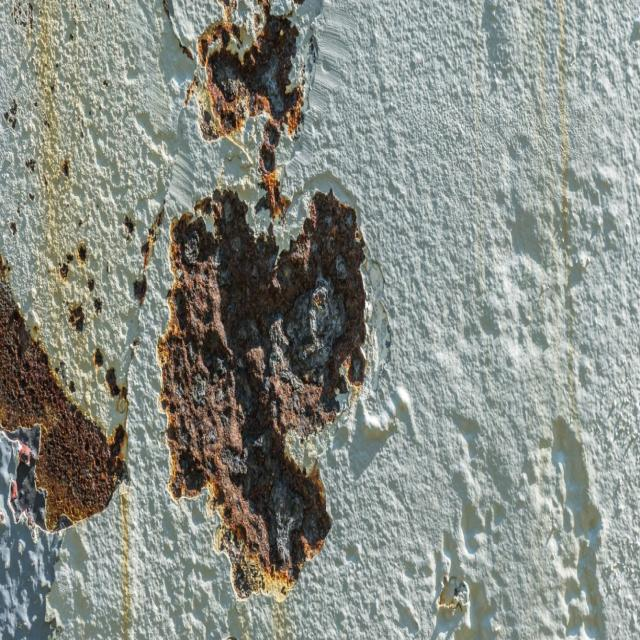Pitting Corrosion: (158, 190, 366, 596), (0, 279, 126, 528), (186, 0, 306, 215), (51, 235, 124, 408), (121, 209, 148, 311)
